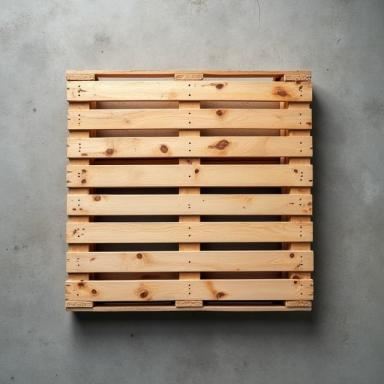pallet: (65, 70, 314, 312)
